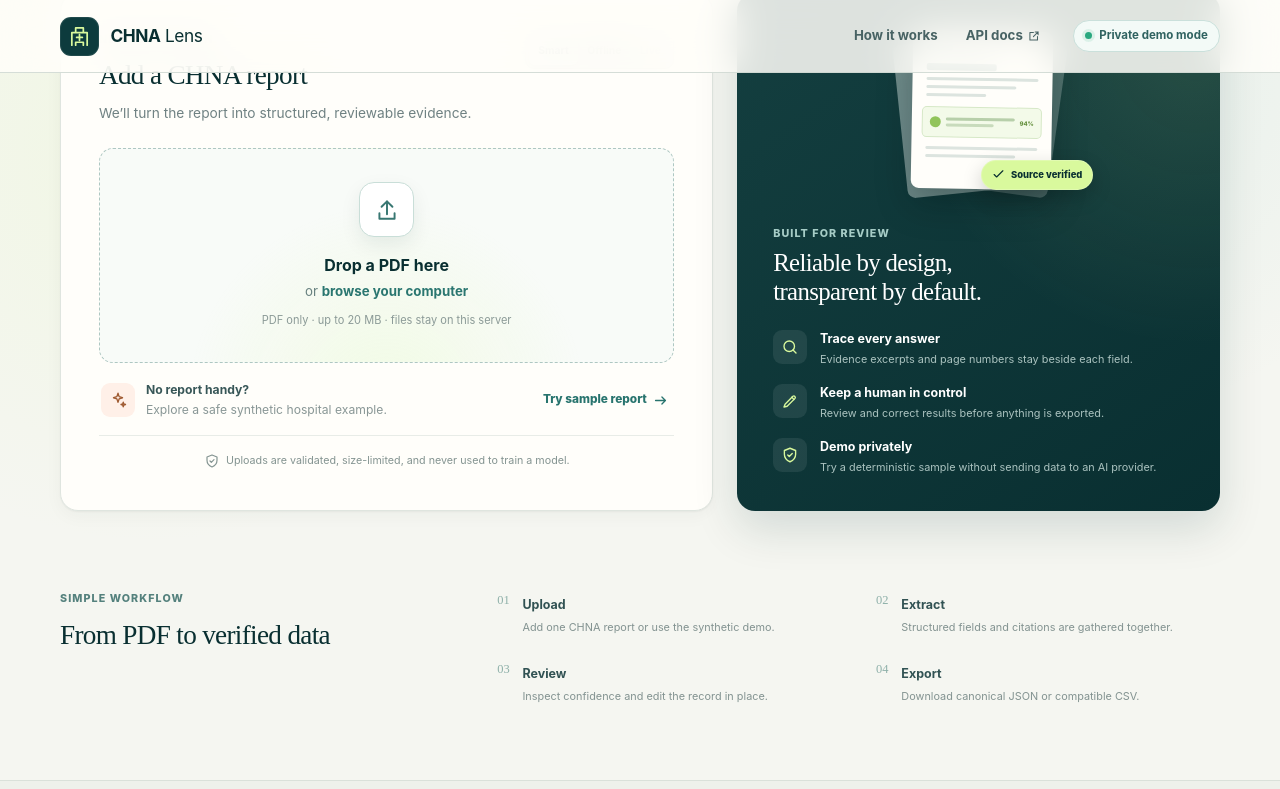
Test case: CHNA Lens › runs the synthetic demo through review and saves an edit
(page scrolled)
Click the button "Try sample report". click: (606, 400)
box: [540, 384, 672, 416]
(page scrolled)
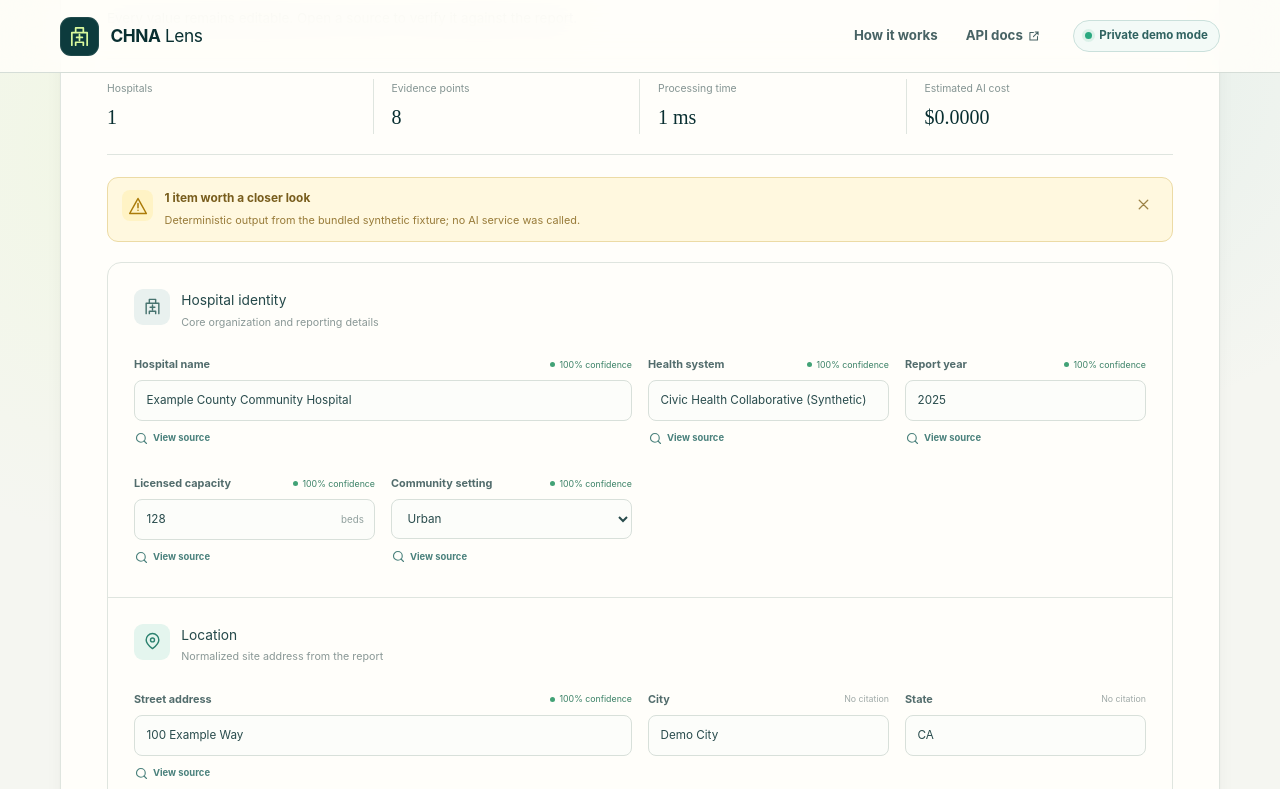
Replace the text in the field labelled "Hospital name" with "Example County Reviewed Hospital". click: (383, 401)
box: [134, 380, 632, 421]
(page scrolled)
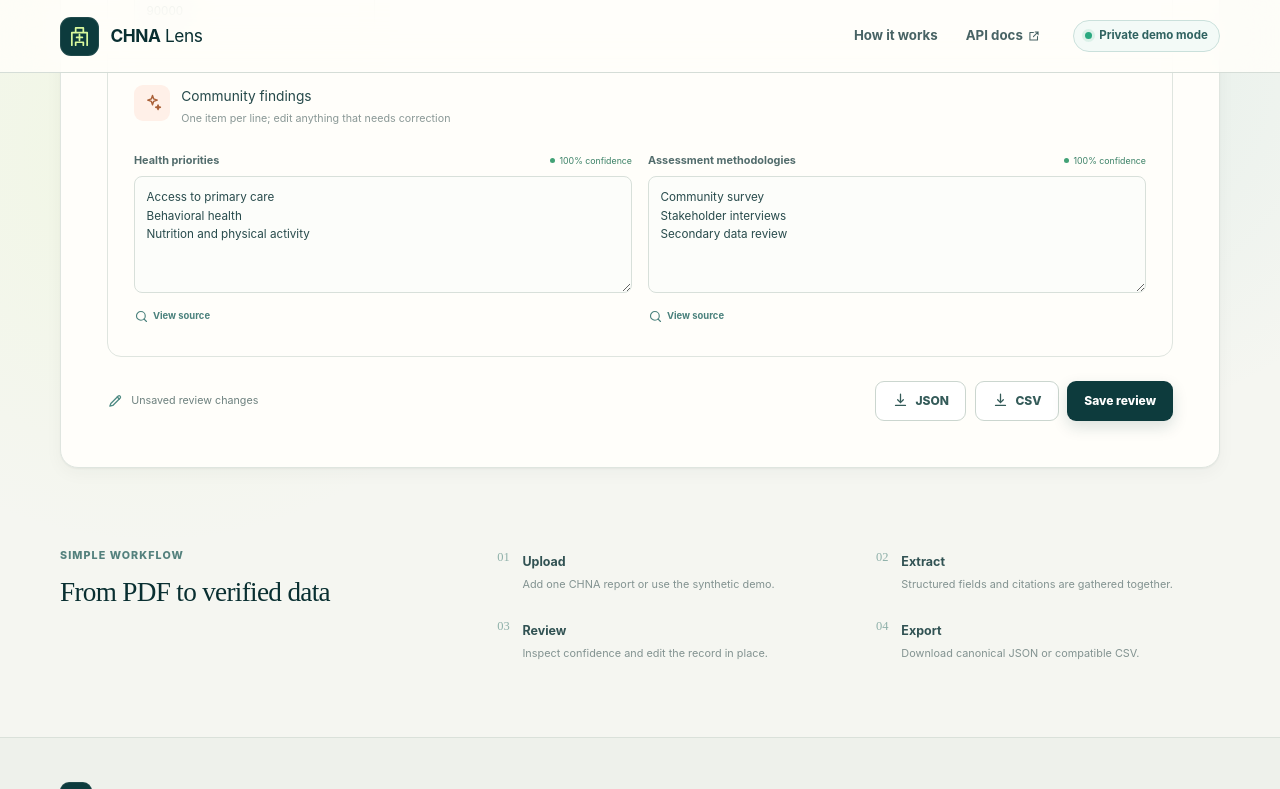
Now the button "Save review" is enabled
Click the button "Save review". click: (1120, 401)
box: [1067, 381, 1173, 421]
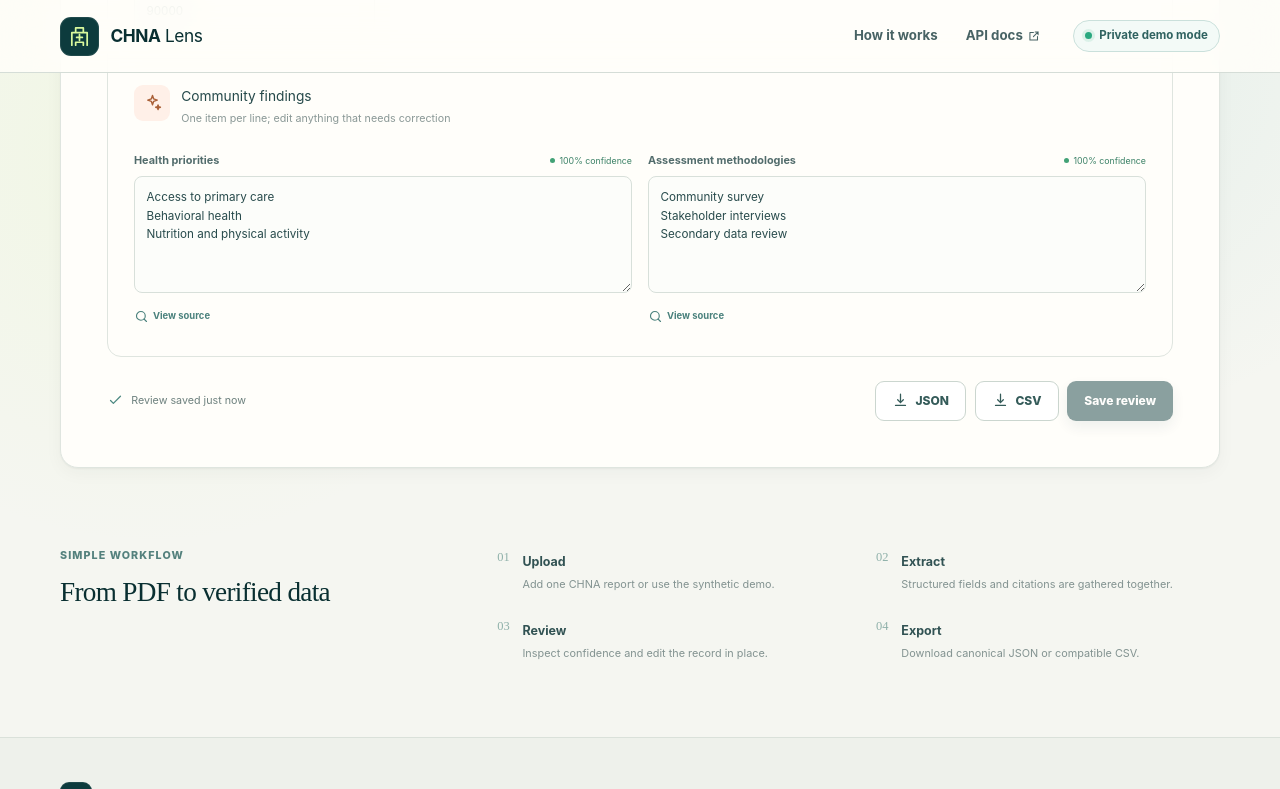
Now the text "Review saved just now" is shown, box [131, 393, 246, 409]
